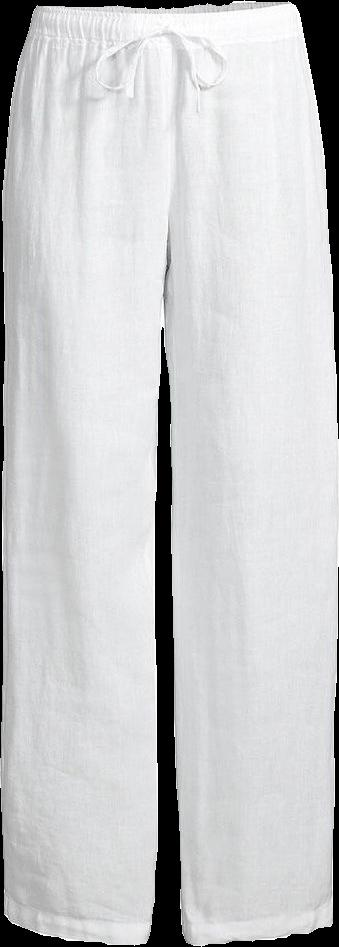Hemline: (4, 910, 145, 946), (181, 920, 335, 946)
Pantleg: (1, 6, 174, 944), (169, 2, 338, 944)
Waistline: (30, 24, 303, 50), (34, 0, 291, 17)
